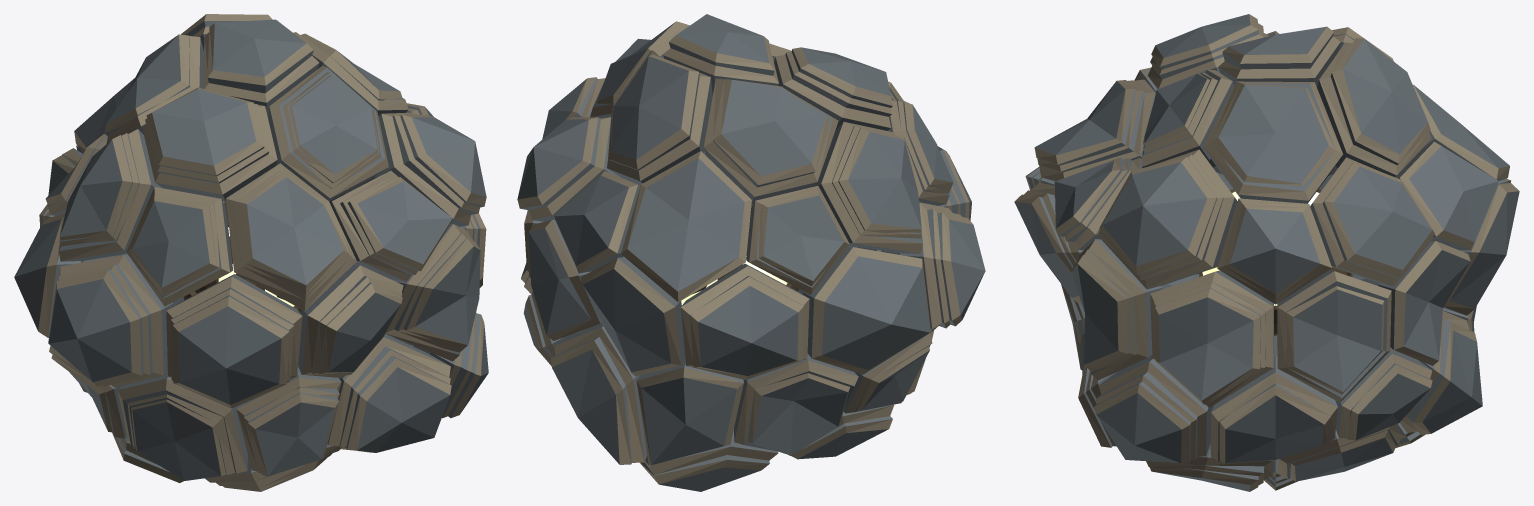
File: boss.glb
The picture shows the model from 3 angles, left to right: view 1: azimuth 30°, elevation 25°; view 2: azimuth 150°, elevation 25°; view 3: azimuth 270°, elevation 25°; orthographic projection. The views are drawn at different scales.
Visible parts, largest first — view 1: armour_broken_shell, armour_intact_shell, armour_cracked_shell; view 2: armour_intact_shell, armour_cracked_shell, armour_broken_shell; view 3: armour_cracked_shell, armour_intact_shell, armour_broken_shell.
Part boxes in pixels (box(x1,y1,x2,y2)): armour_broken_shell: box(48, 75, 488, 491); armour_intact_shell: box(14, 26, 473, 482); armour_cracked_shell: box(39, 14, 479, 488); armour_intact_shell: box(524, 24, 952, 474); armour_cracked_shell: box(517, 14, 961, 491); armour_broken_shell: box(616, 38, 985, 392); armour_cracked_shell: box(1024, 23, 1511, 485); armour_intact_shell: box(1031, 33, 1519, 479); armour_broken_shell: box(1014, 14, 1297, 491).
Bounding box in the file's own units: 29.29 × 29.2 × 30.63.
